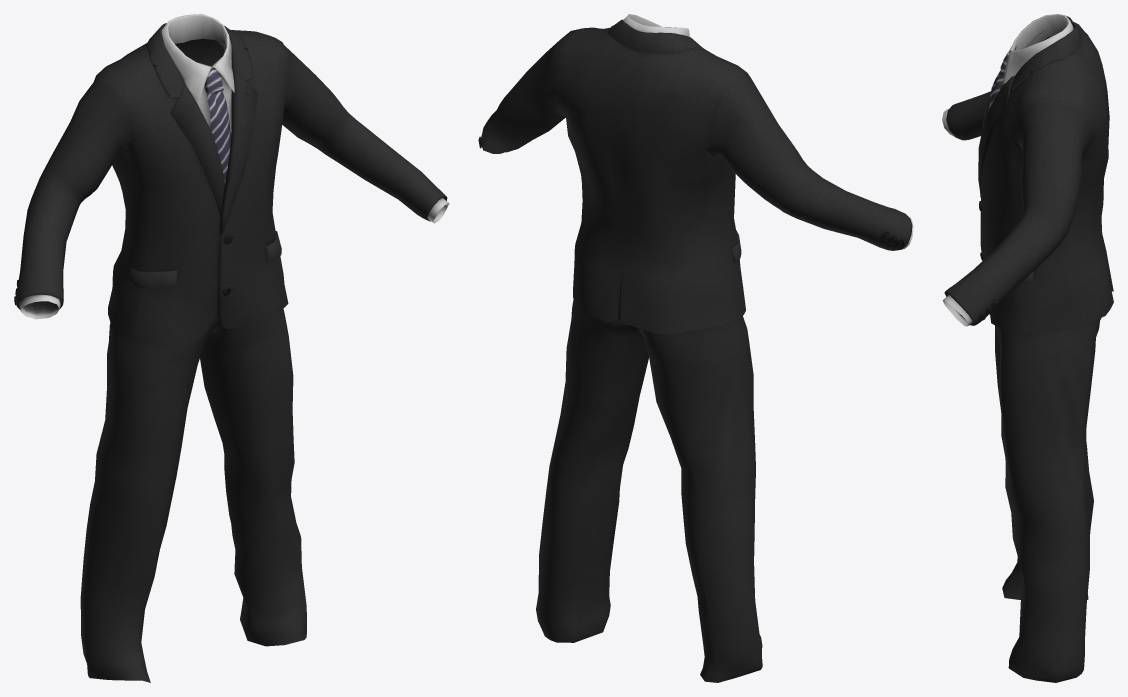
The model's file is human.obj.
3 renders of one model, left to right at view 1: azimuth 30°, elevation 25°; view 2: azimuth 150°, elevation 25°; view 3: azimuth 270°, elevation 25°, orthographic. The views are drawn at different scales.
Visible parts, largest first — view 1: human:suit01LRes; view 2: human:suit01LRes; view 3: human:suit01LRes.
Boxes of the visible parts, left/top/right/bottom form: human:suit01LRes: left=14, top=14, right=449, bottom=682; human:suit01LRes: left=478, top=14, right=913, bottom=682; human:suit01LRes: left=942, top=14, right=1113, bottom=682.
Size of the model in its own units: 11.27 by 15.91 by 4.05.
Materials: 1 (1 with a texture image).
